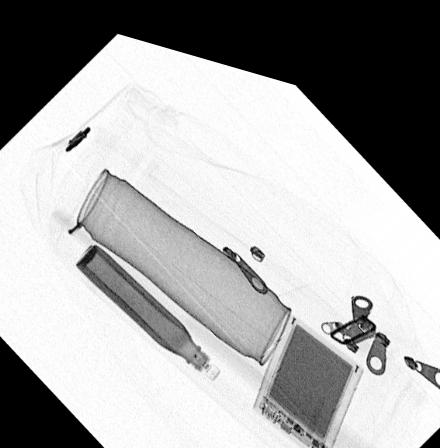Powerbank: (251, 296, 364, 445)
